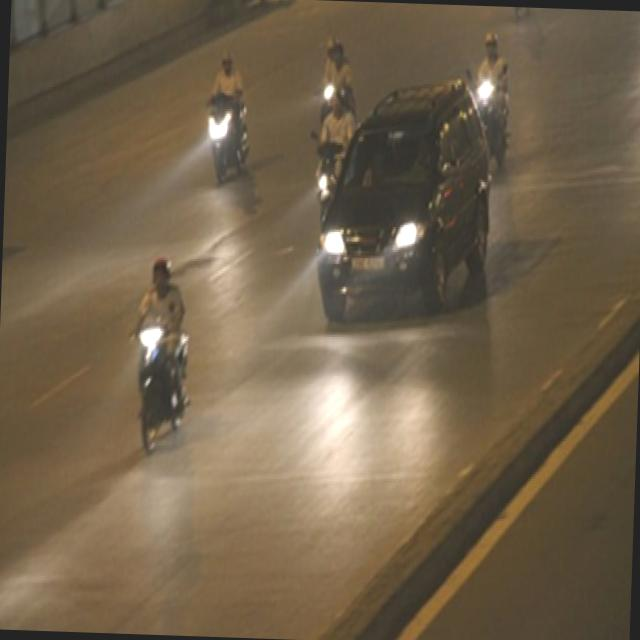Car: (311, 60, 501, 335)
Motobike: (126, 314, 192, 460), (466, 67, 516, 172), (202, 90, 252, 182), (310, 135, 361, 224)
